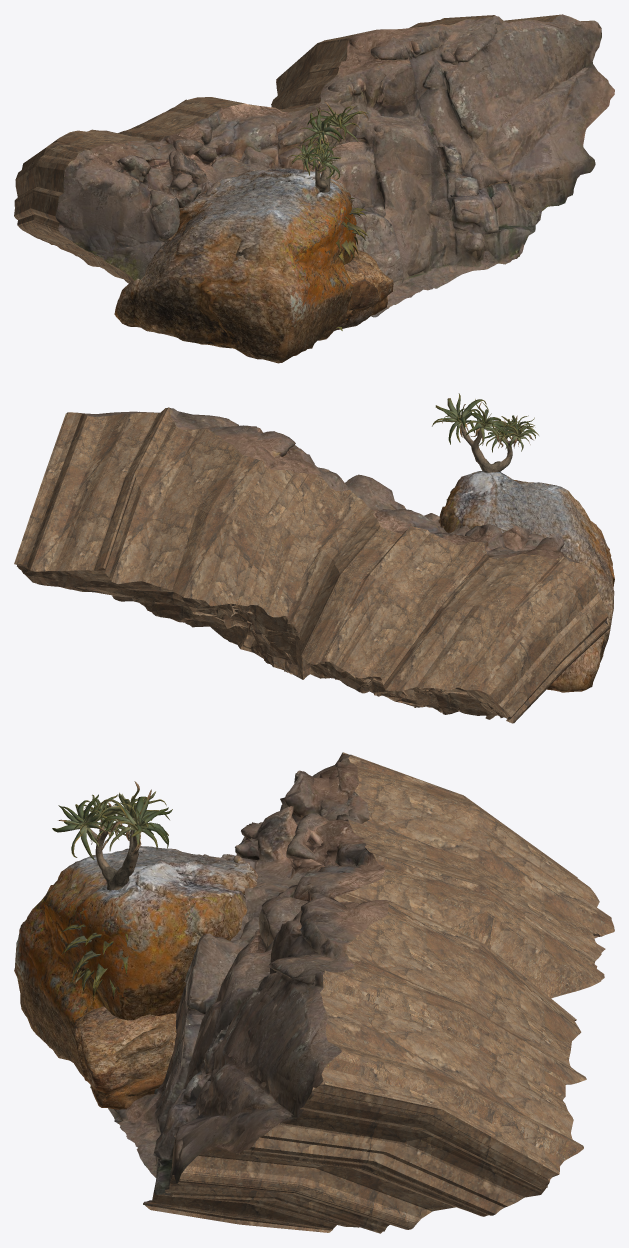
File: namaqua.glb
The picture shows the model from 3 angles, top to bottom: view 1: azimuth 30°, elevation 25°; view 2: azimuth 150°, elevation 25°; view 3: azimuth 270°, elevation 25°; orthographic projection. The views are drawn at different scales.
Visible parts, largest first — view 1: rock_shelf, rock_shelf_far, granite_tor, granite_tor_far, quiver_tree, weathered_rock, weathered_rock_far, quiver_tree_far; view 2: rock_shelf, rock_shelf_far, granite_tor, granite_tor_far, quiver_tree, quiver_tree_far; view 3: rock_shelf, rock_shelf_far, granite_tor, granite_tor_far, weathered_rock, quiver_tree, weathered_rock_far, quiver_tree_far, fork_tree.
Part boxes in pixels (x1,y1,x2,y2): rock_shelf: [14, 14, 611, 317]; rock_shelf_far: [14, 14, 614, 316]; granite_tor: [115, 168, 355, 362]; granite_tor_far: [114, 167, 356, 363]; quiver_tree: [287, 101, 368, 192]; weathered_rock: [334, 250, 393, 330]; weathered_rock_far: [334, 250, 393, 330]; quiver_tree_far: [288, 104, 366, 192]; rock_shelf: [14, 408, 610, 723]; rock_shelf_far: [16, 407, 607, 723]; granite_tor: [439, 471, 614, 692]; granite_tor_far: [441, 471, 614, 692]; quiver_tree: [432, 393, 538, 472]; quiver_tree_far: [434, 397, 535, 472]; rock_shelf: [108, 752, 614, 1233]; rock_shelf_far: [109, 755, 614, 1232]; granite_tor: [14, 846, 258, 1076]; granite_tor_far: [15, 846, 256, 1068]; weathered_rock: [74, 1006, 176, 1109]; quiver_tree: [52, 781, 172, 890]; weathered_rock_far: [74, 1006, 176, 1109]; quiver_tree_far: [52, 788, 168, 890]; fork_tree: [61, 924, 154, 1001].
Bounding box in the file's own units: 13.52 × 5.68 × 9.23.
16 materials, 16 textured.
